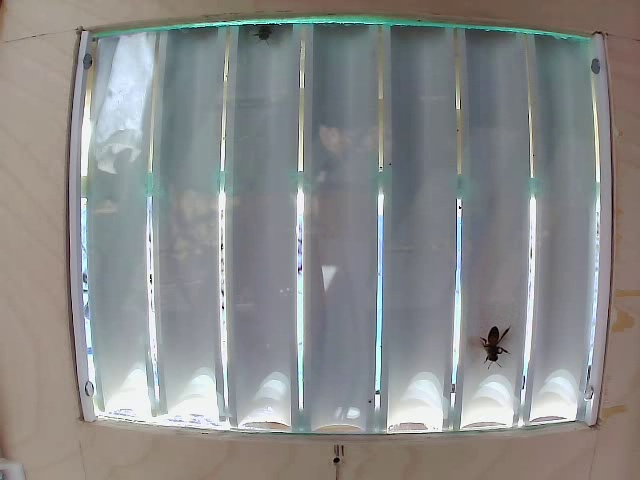bee: (458, 312, 529, 367)
